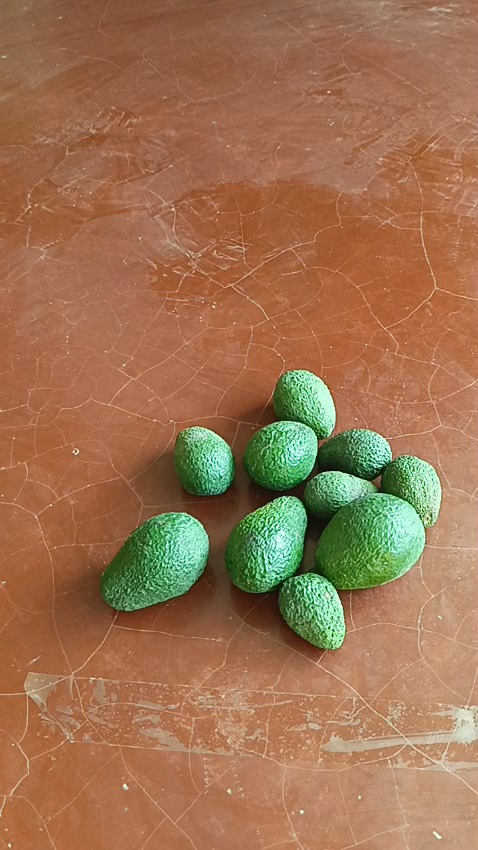Primera: (99, 510, 210, 611), (313, 491, 425, 588), (224, 494, 309, 592)
Segunda: (242, 420, 318, 490)
Tercera: (276, 570, 345, 648), (271, 369, 336, 439), (379, 454, 441, 526), (173, 426, 235, 496), (316, 429, 392, 480), (303, 470, 378, 521)
